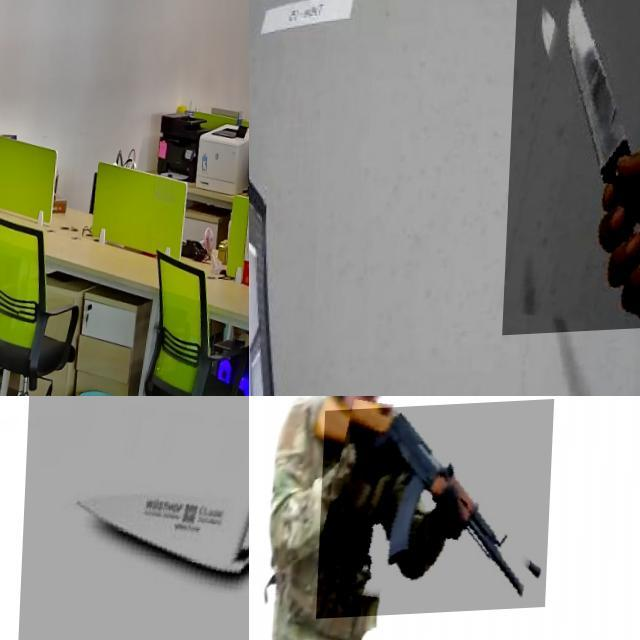-: (18, 396, 249, 640), (506, 0, 640, 338)
gun-knife-thesis - v11 Yolov5 augmented: (319, 404, 555, 620), (0, 146, 31, 285)
